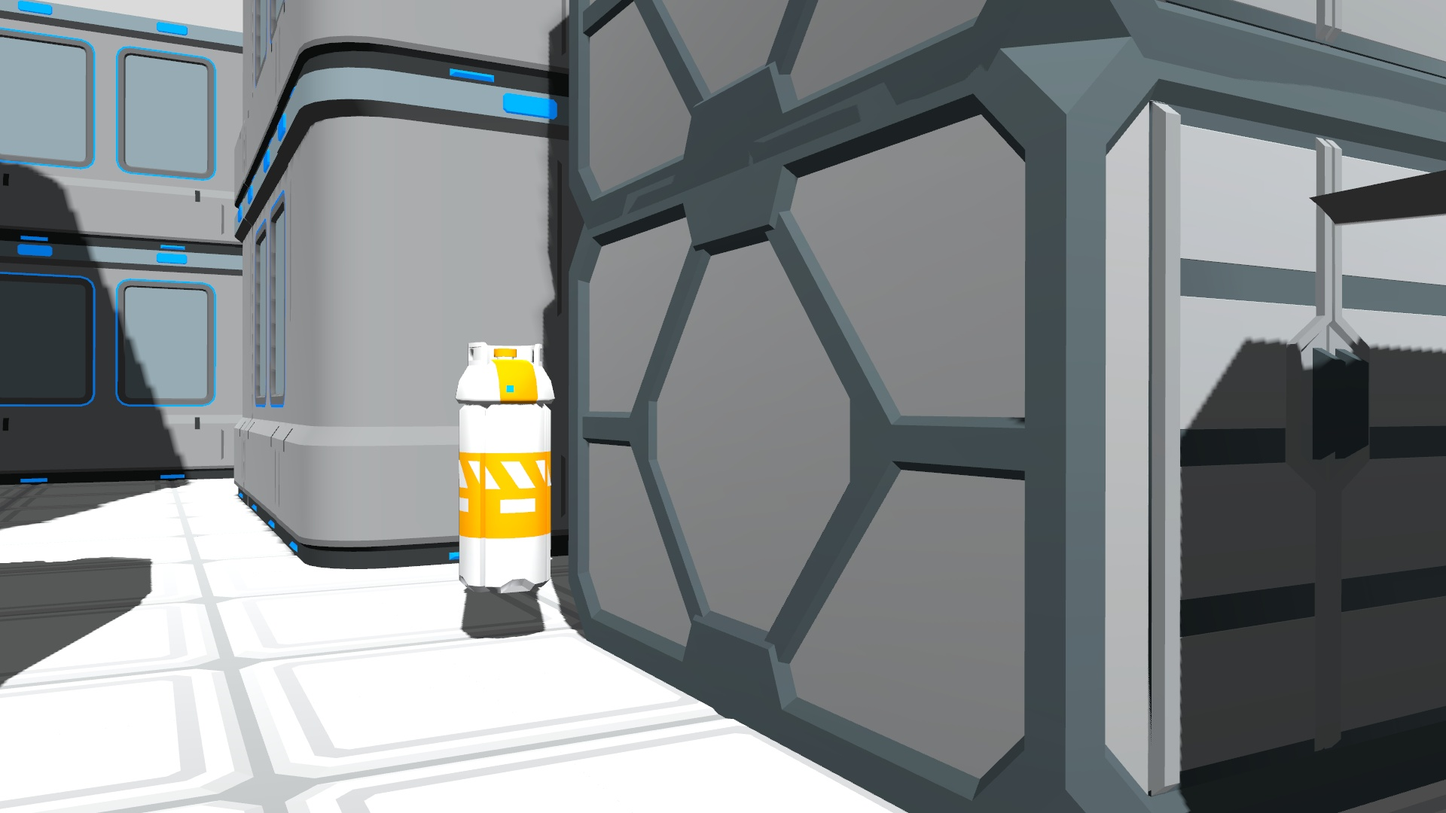yellow_barrel: (449, 336, 559, 597)
